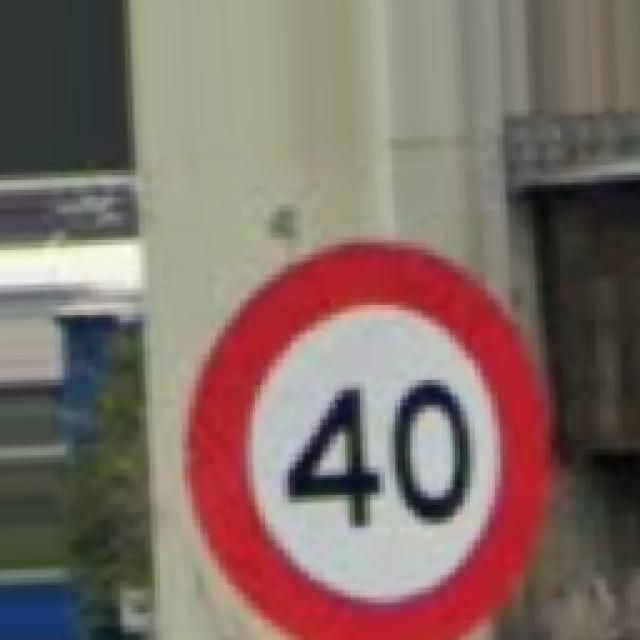Speed Limit -40-: (185, 242, 548, 638)
